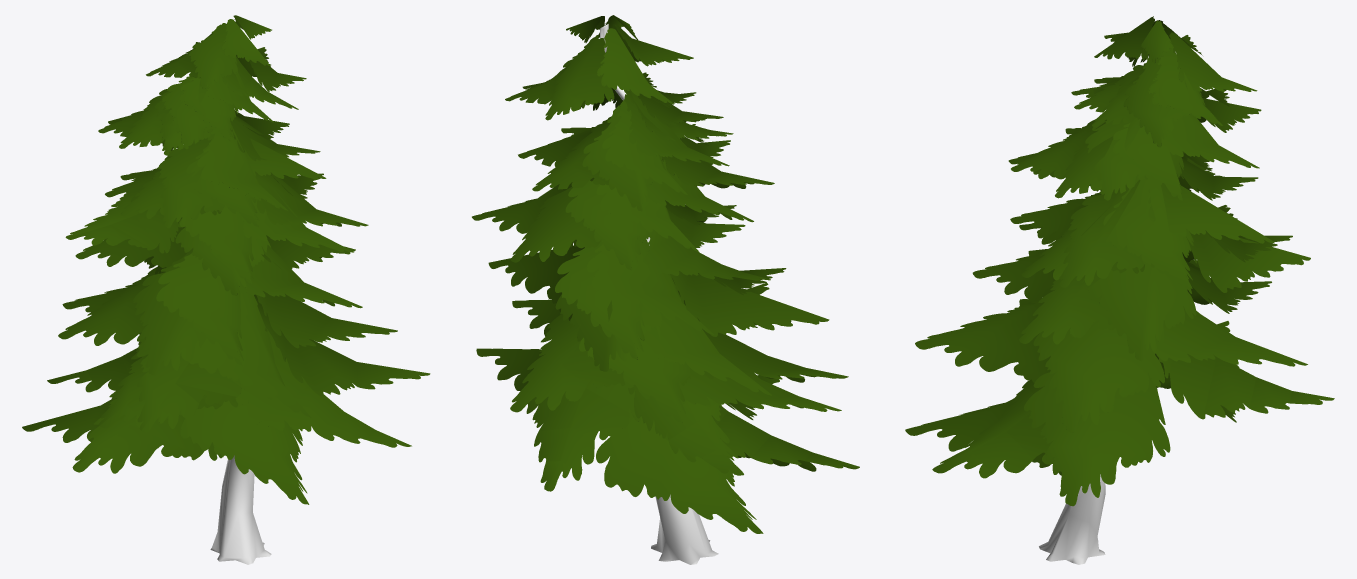
Rendered from pine-5-distant.glb.
The picture shows the model from 3 angles, left to right: view 1: azimuth 30°, elevation 25°; view 2: azimuth 150°, elevation 25°; view 3: azimuth 270°, elevation 25°; orthographic projection. The views are drawn at different scales.
Parts seen in each view (by area): view 1: Pine_5; view 2: Pine_5; view 3: Pine_5.
Part boxes in pixels (x1,y1,x2,y2): Pine_5: [22, 15, 430, 564]; Pine_5: [472, 15, 859, 564]; Pine_5: [905, 16, 1334, 564].
Bounding box in the file's own units: 6.42 × 8.49 × 6.22.
2 materials, 1 textured.
